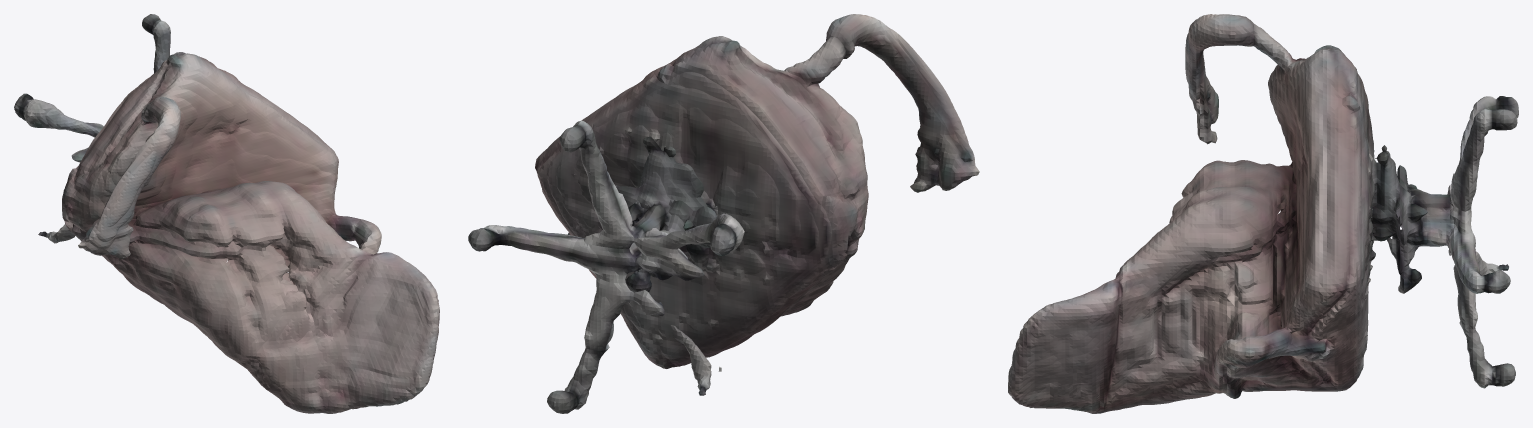
3 renders of one model, left to right at view 1: azimuth 30°, elevation 25°; view 2: azimuth 150°, elevation 25°; view 3: azimuth 270°, elevation 25°, orthographic. The views are drawn at different scales.
Visible parts, largest first — view 1: world; view 2: world; view 3: world.
Boxes of the visible parts, x1,y1,x2,y2 form: world: (14, 14, 439, 413); world: (468, 14, 979, 413); world: (1008, 14, 1518, 413).
Size of the model in its own units: 0.746 by 0.6643 by 0.9065.
